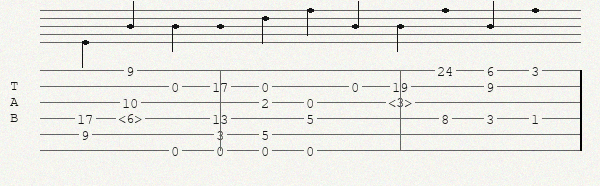0: (171, 144, 183, 157), (171, 80, 183, 93), (216, 144, 228, 157), (261, 80, 273, 93), (261, 144, 273, 157), (306, 144, 318, 157), (306, 96, 318, 109), (351, 80, 363, 93)
1: (531, 112, 543, 125)
10: (122, 96, 142, 109)
13: (212, 112, 232, 125)
17: (77, 112, 97, 125), (212, 80, 232, 93)
19: (392, 80, 412, 93)
2: (261, 96, 273, 109)
24: (437, 64, 457, 77)
3: (216, 128, 228, 141), (486, 112, 498, 125), (531, 64, 543, 77)
5: (261, 128, 273, 141), (306, 112, 318, 125)
6: (486, 64, 498, 77)
8: (441, 112, 453, 125)
9: (81, 128, 93, 141), (126, 64, 138, 77), (486, 80, 498, 93)
harmonic: (118, 111, 146, 125), (388, 95, 416, 109)
